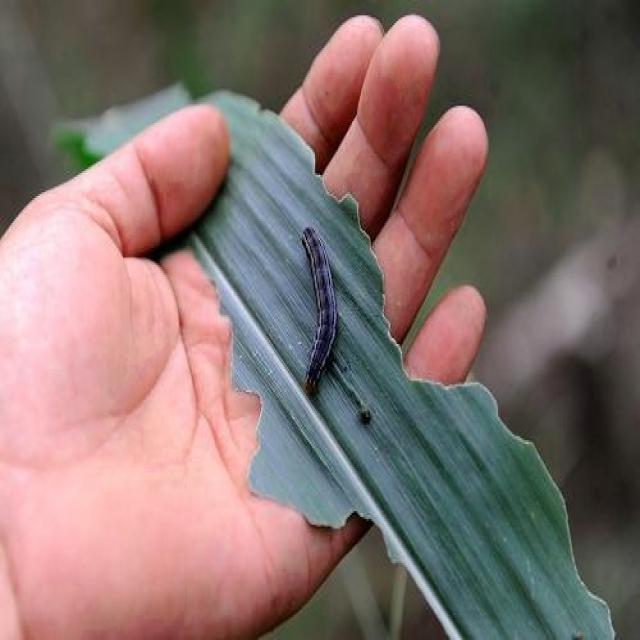army worm: (296, 222, 342, 407)
